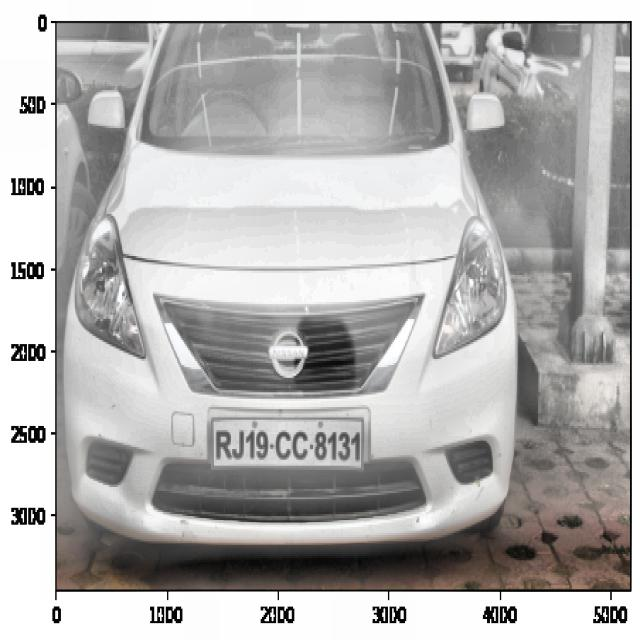license_plate: (210, 418, 364, 472)
